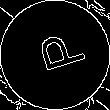P_W: (25, 30, 85, 80)
